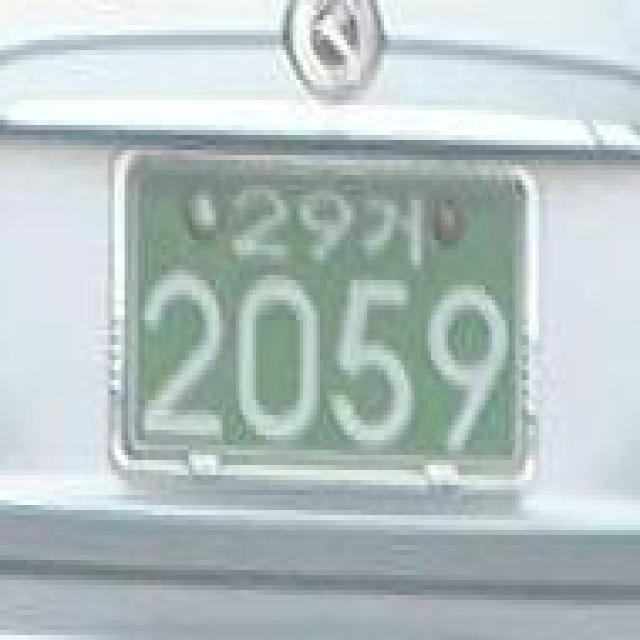illegal_plate: (93, 126, 555, 522)
